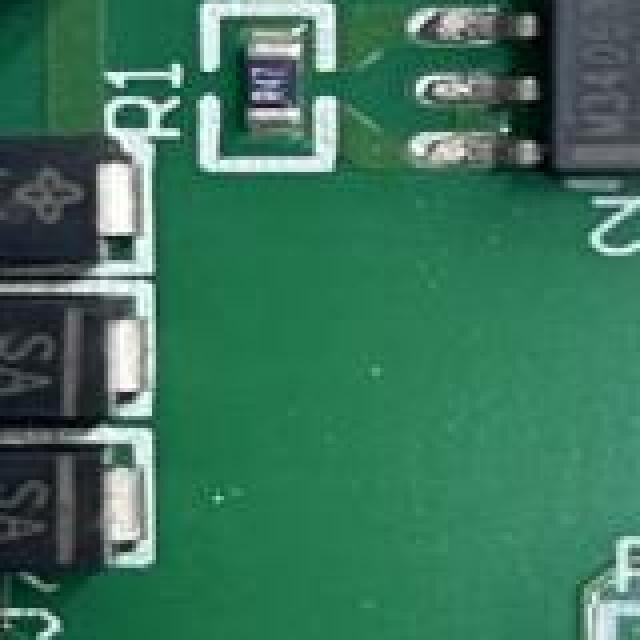IC: (488, 0, 640, 200)
diode: (0, 272, 136, 448), (0, 124, 136, 284), (0, 468, 128, 568)
resistor: (220, 32, 344, 172), (636, 616, 640, 640)
